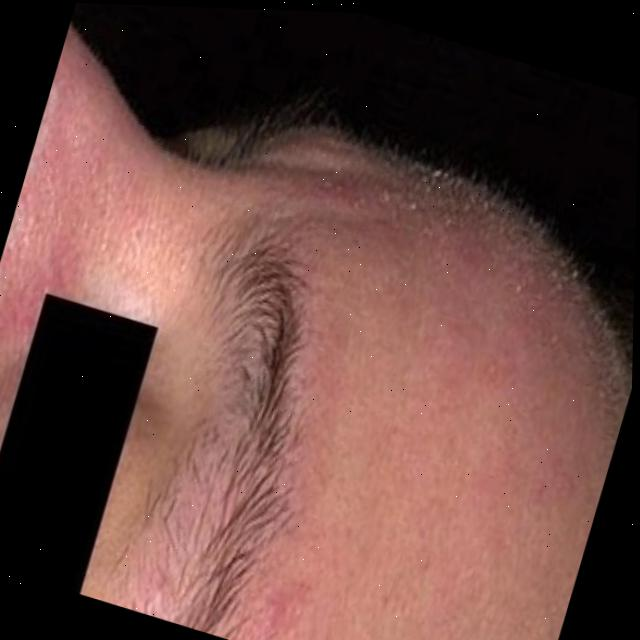Rosacea: (254, 160, 637, 536)
